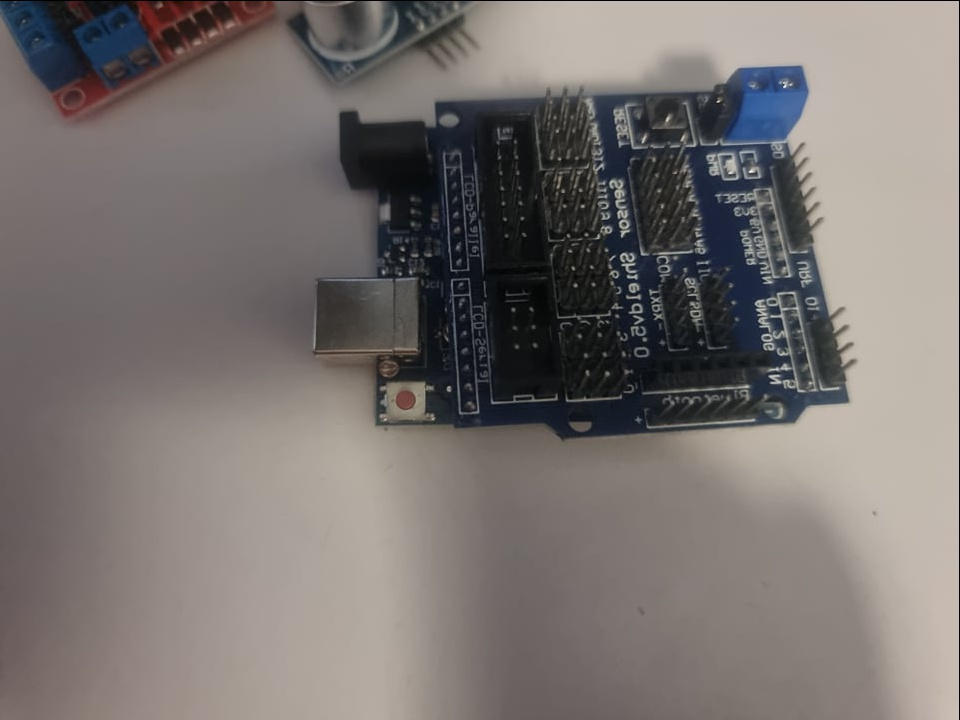UNO R3: (291, 52, 860, 437)
